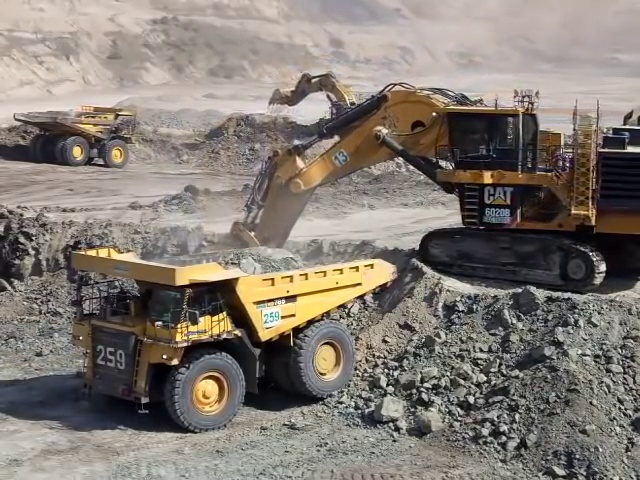dumper: (66, 246, 400, 432), (11, 102, 137, 167)
excavator: (228, 81, 639, 295), (267, 70, 376, 136)
